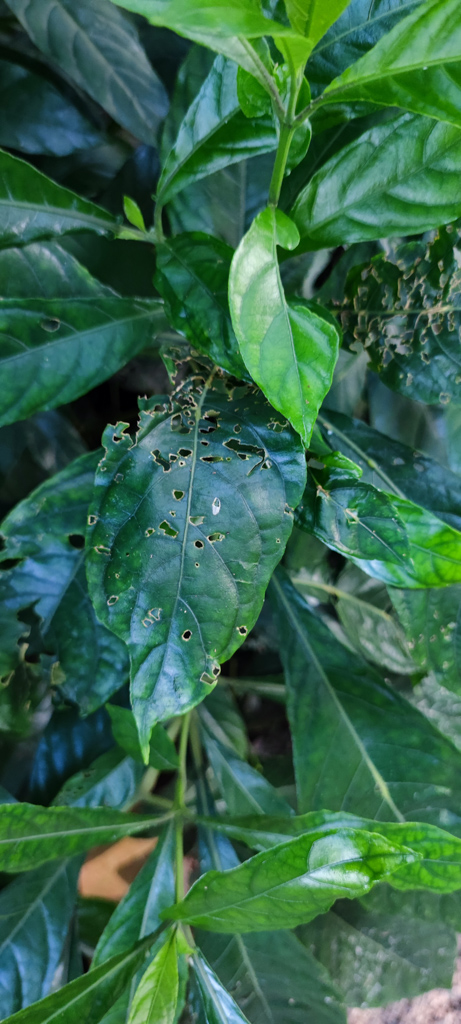frog-eye leafspot: (146, 446, 194, 479), (135, 603, 164, 631), (140, 518, 176, 539), (205, 526, 232, 551), (102, 587, 127, 610), (210, 492, 226, 521), (92, 539, 115, 559), (82, 511, 100, 529), (176, 627, 194, 644), (187, 509, 204, 526), (185, 535, 204, 550), (279, 500, 293, 520), (179, 443, 195, 460), (171, 487, 187, 503), (190, 559, 206, 573), (233, 620, 247, 636), (268, 536, 282, 544)
